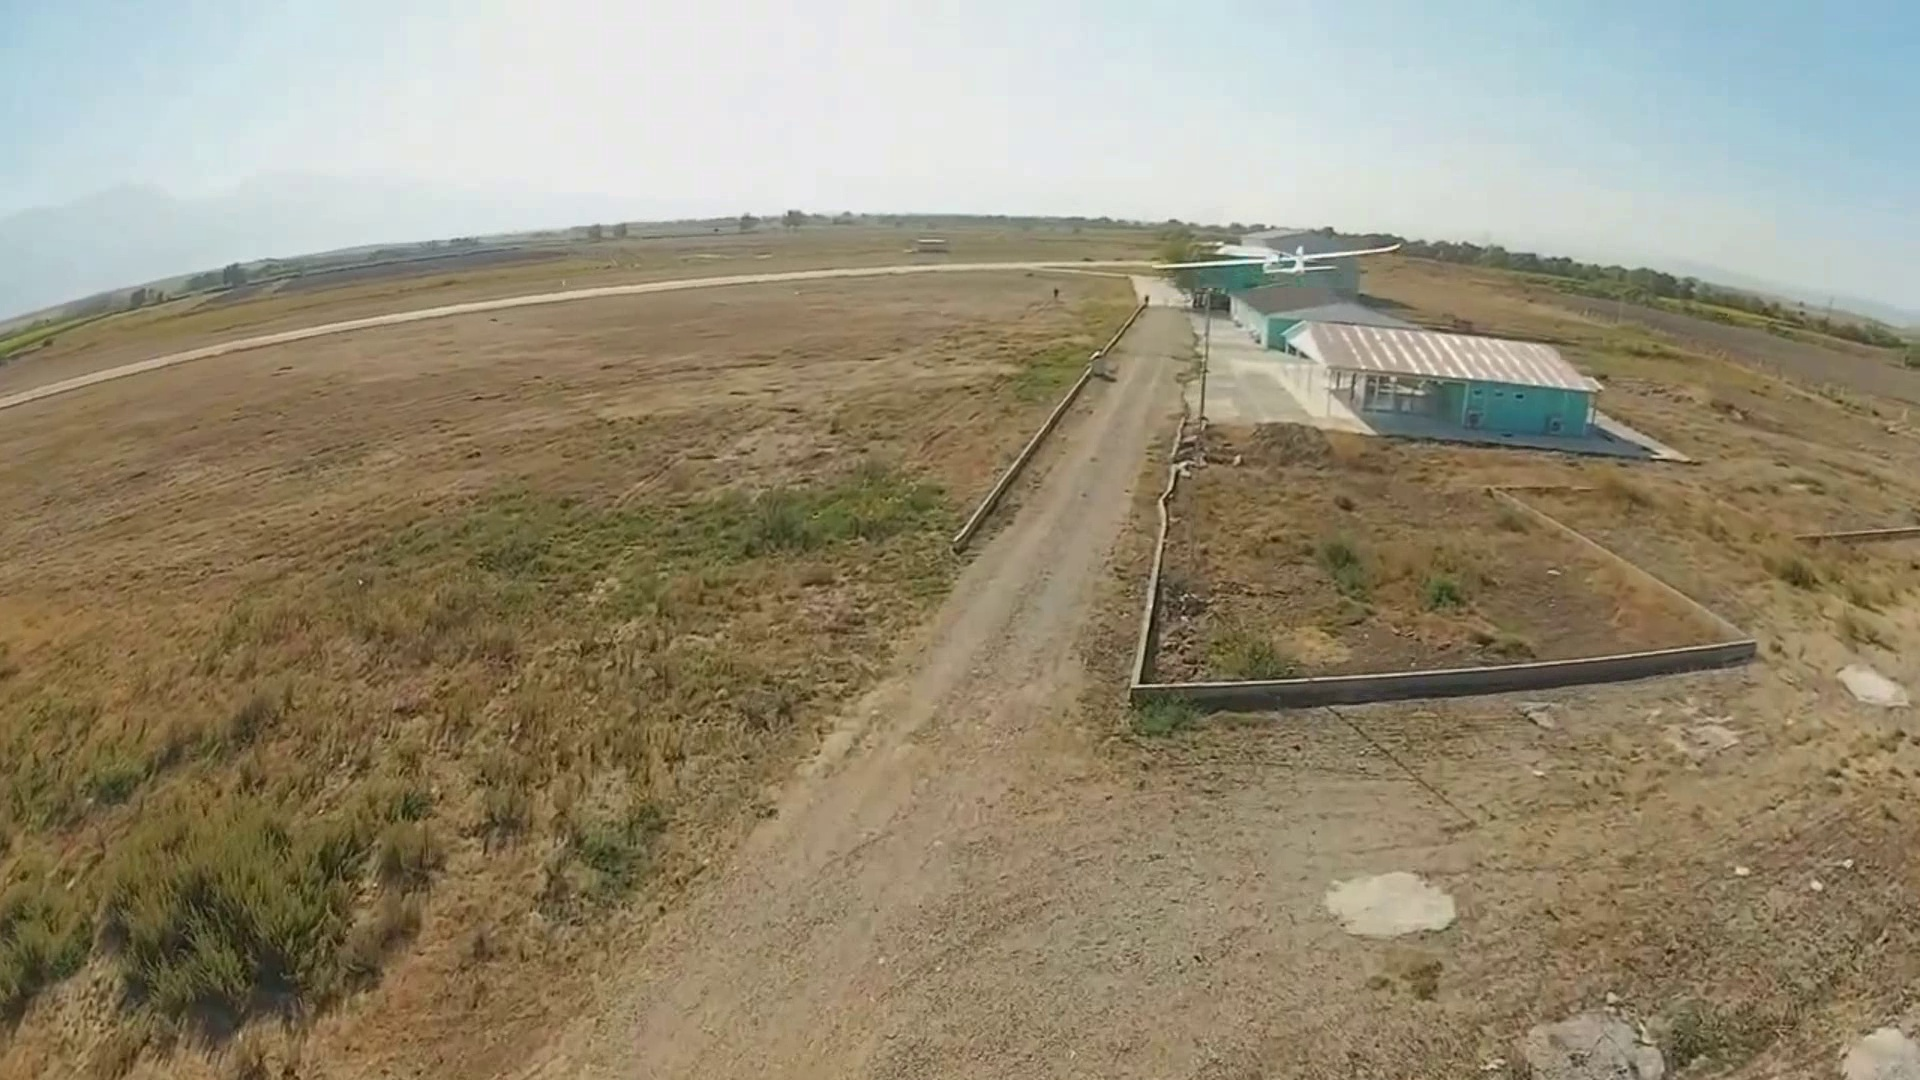airplane: (1162, 244, 1680, 460)
